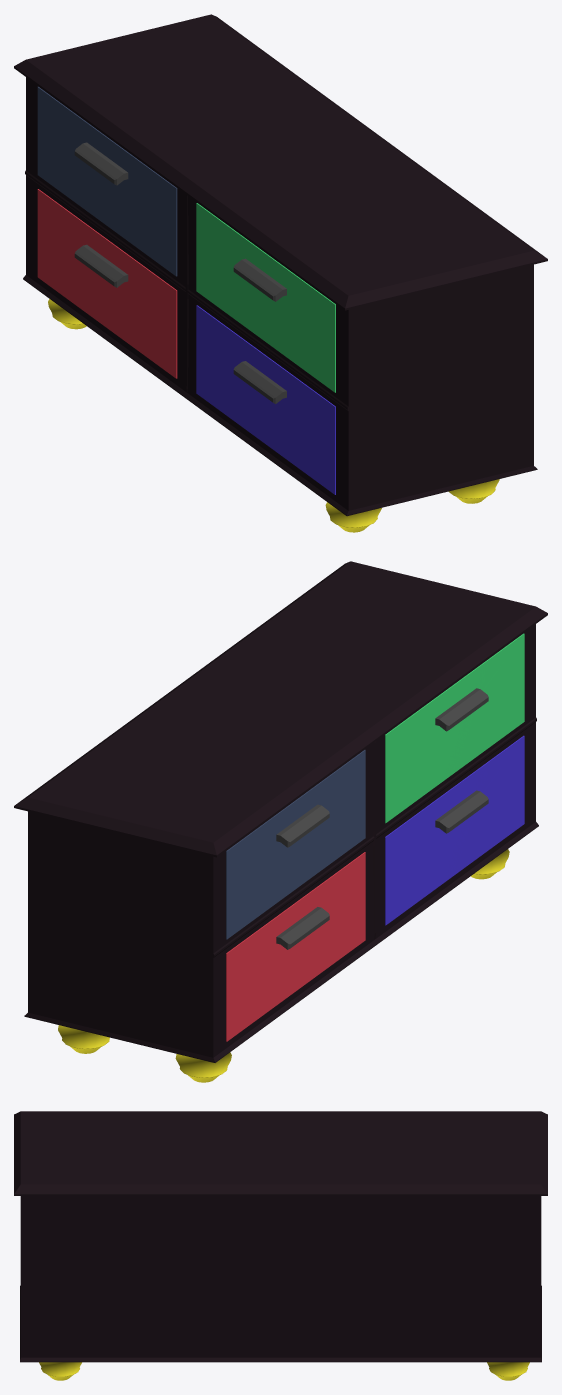
The model's file is Dresser4.fbx.
3 views of the same model, one above another, from view 1: azimuth 30°, elevation 25°; view 2: azimuth 150°, elevation 25°; view 3: azimuth 270°, elevation 25° (orthographic). The views are drawn at different scales.
Visible parts, largest first — view 1: Dresser3; view 2: Dresser3; view 3: Dresser3.
Boxes of the visible parts, left/top/right/bottom form: Dresser3: left=14, top=14, right=547, bottom=532; Dresser3: left=14, top=561, right=547, bottom=1082; Dresser3: left=14, top=1111, right=547, bottom=1380.
Bounding box in the file's own units: 53.02 × 62.29 × 145.
